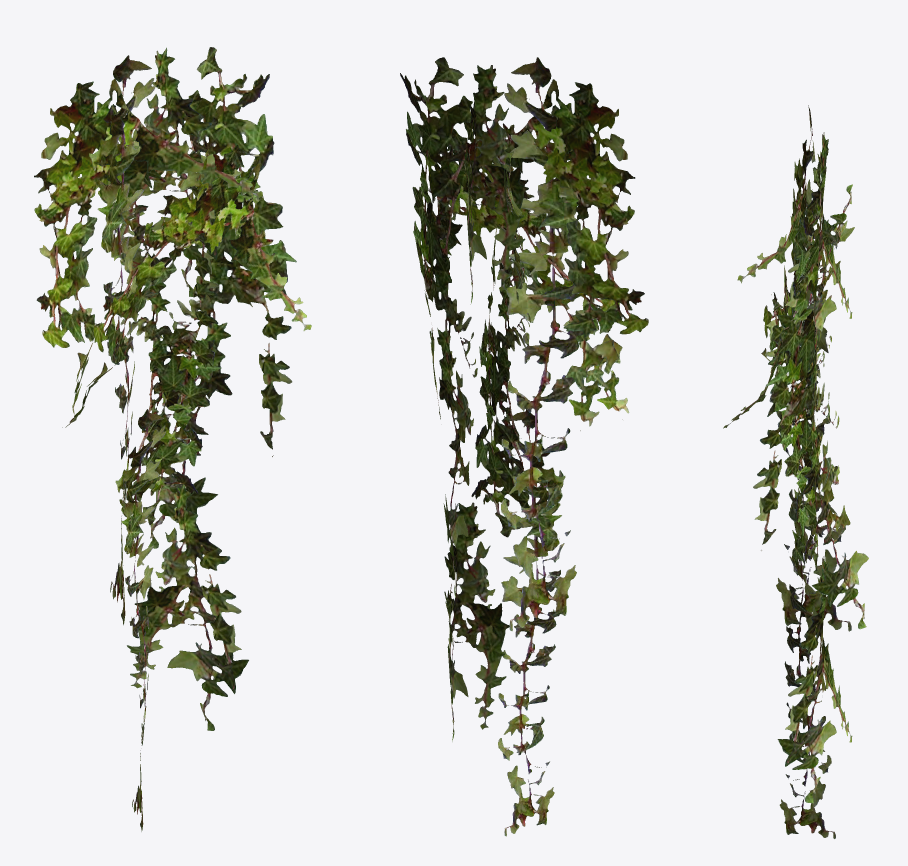
The model's file is ivy10_lod0.fbx.
3 views of the same model, side by side, from view 1: azimuth 30°, elevation 25°; view 2: azimuth 150°, elevation 25°; view 3: azimuth 270°, elevation 25° (orthographic). The views are drawn at different scales.
Parts seen in each view (by area): view 1: Mesh Object; view 2: Mesh Object; view 3: Mesh Object.
Part boxes in pixels (x1,y1,x2,y2): Mesh Object: [34, 47, 311, 831]; Mesh Object: [400, 57, 648, 836]; Mesh Object: [723, 105, 868, 838].
Size of the model in its own units: 0.7712 by 2.11 by 0.4624.
